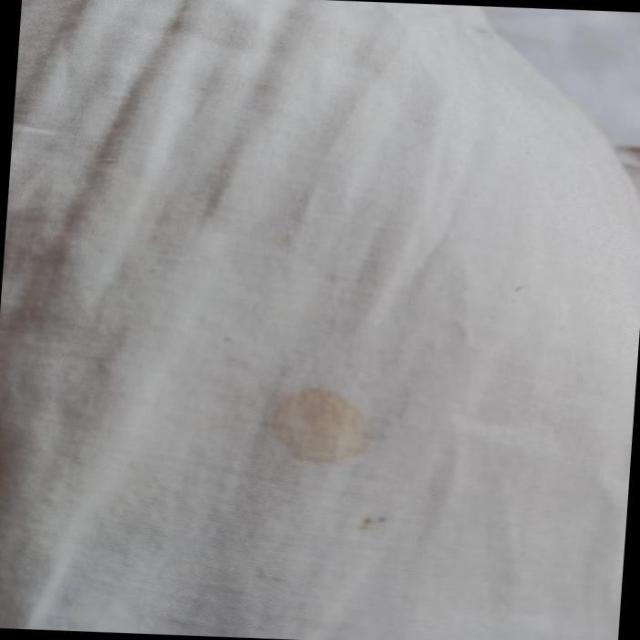stain: (254, 378, 386, 472), (339, 496, 410, 544)
